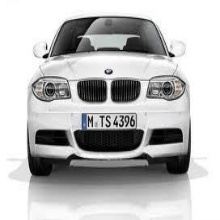no damage: (26, 15, 193, 180)
